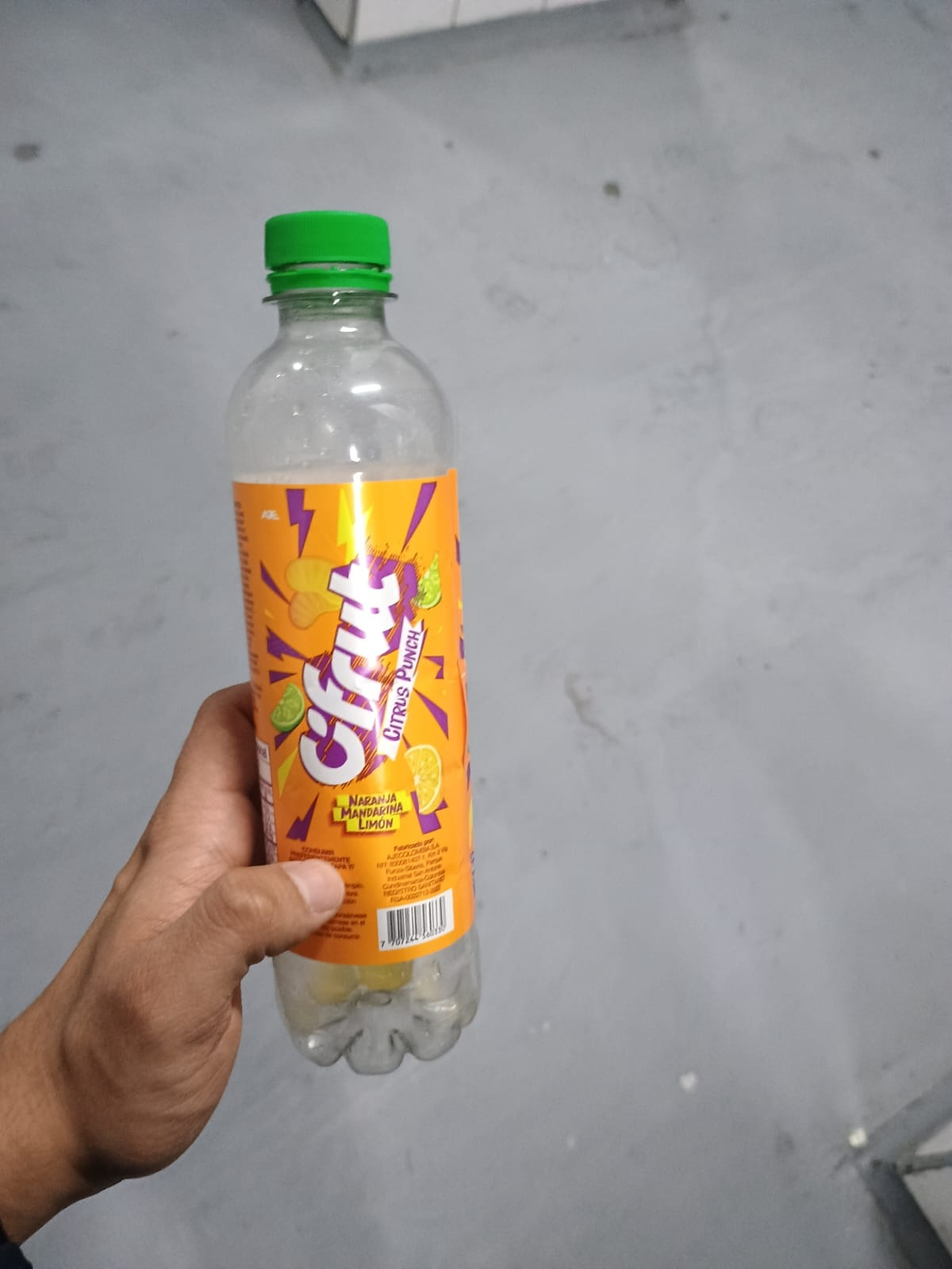Plastico: (225, 212, 482, 1073)
